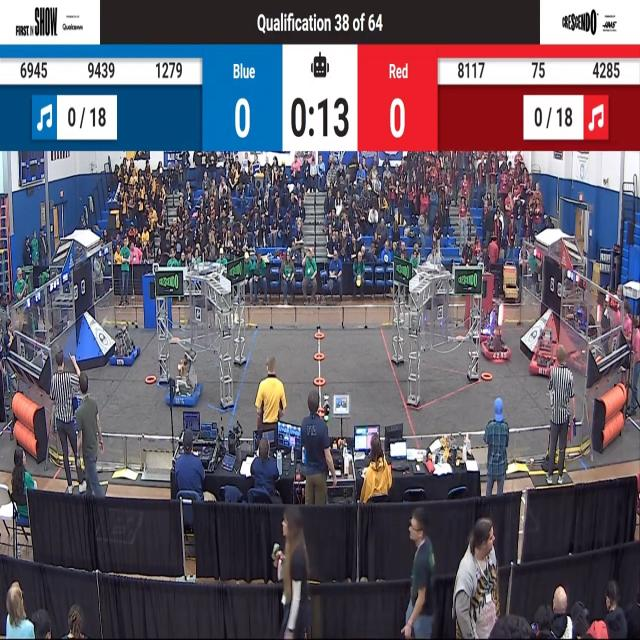Robot: (52, 372, 92, 434), (526, 318, 564, 383), (166, 352, 204, 416), (479, 302, 512, 372), (463, 292, 499, 346), (108, 319, 141, 376)
